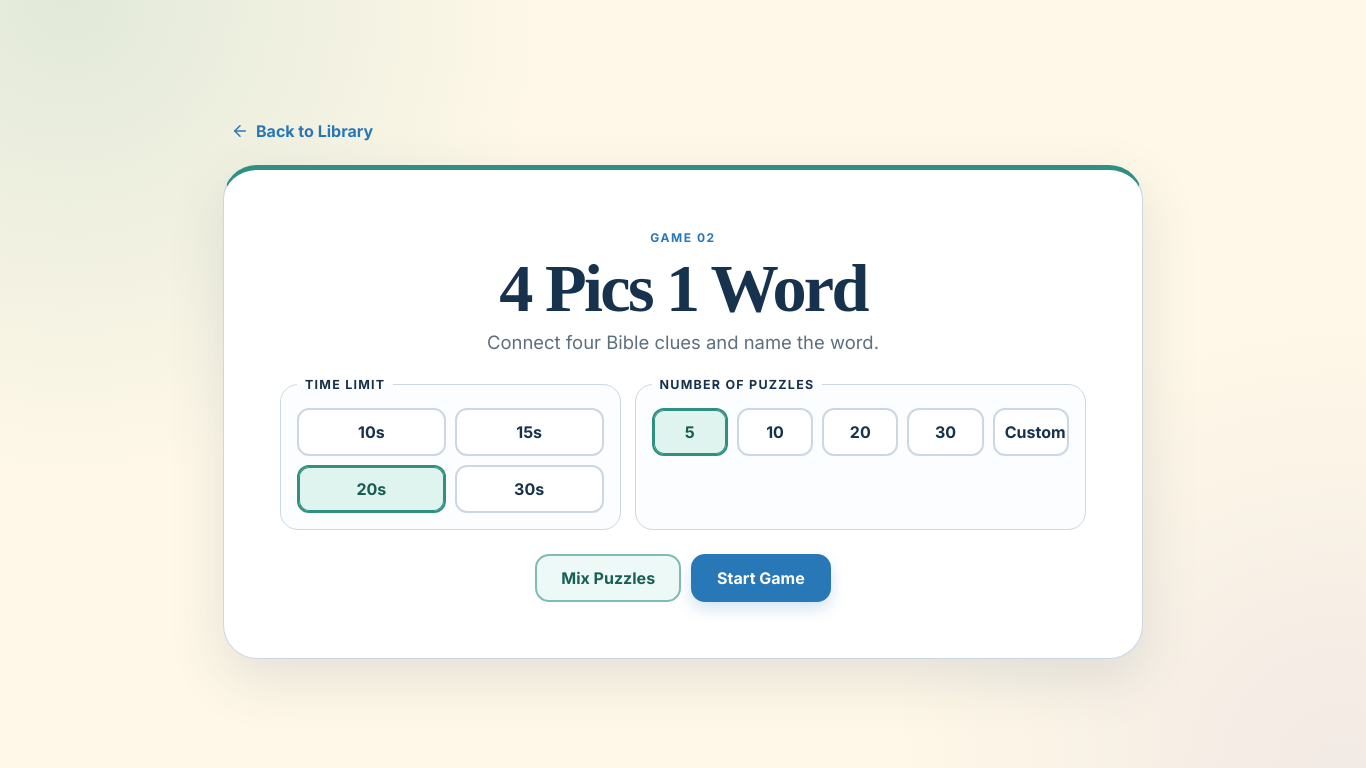
it: 4 Pics 1 Word › keeps accessible picture labels without displaying clue captions
The width and height of the screenshot is (1366, 768).
Step 1. Click the button "Start Game" → (761, 578), box [691,554,831,602]
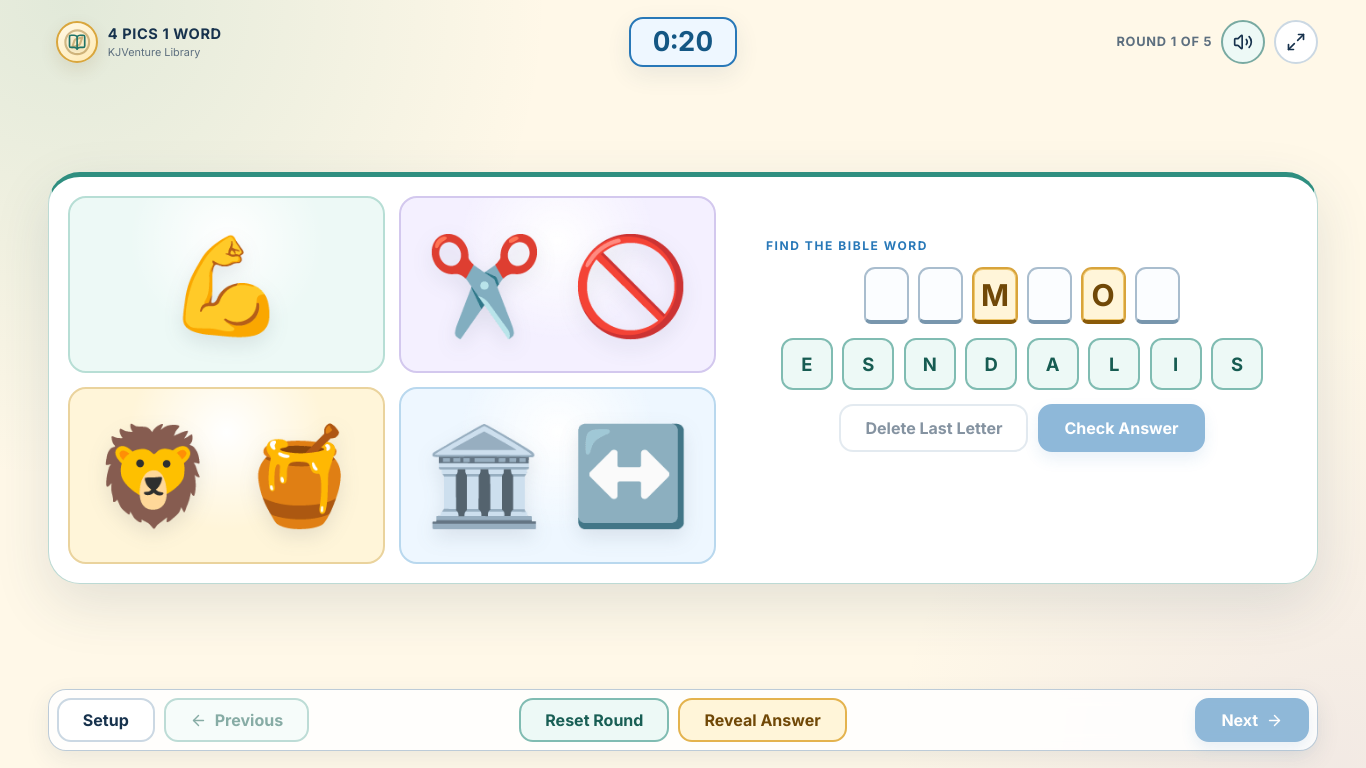
expect the picture "💪" does not show "Extraordinary strength": met, box [68,196,385,373]
expect the number of pictures is 4: met, box [68,196,385,373]; [399,196,716,373]; [68,387,385,564]; [399,387,716,564]
